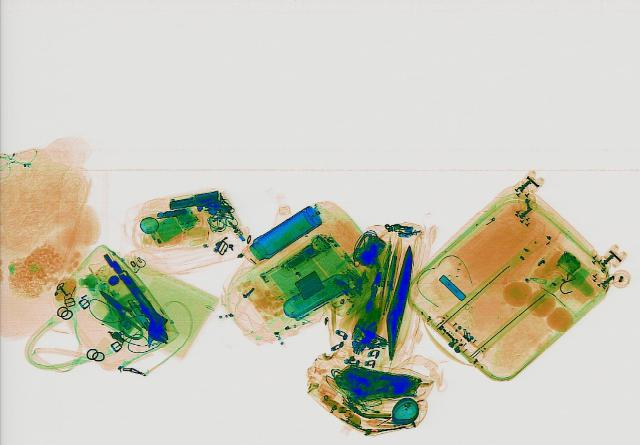Wrench: (104, 266, 180, 344)
